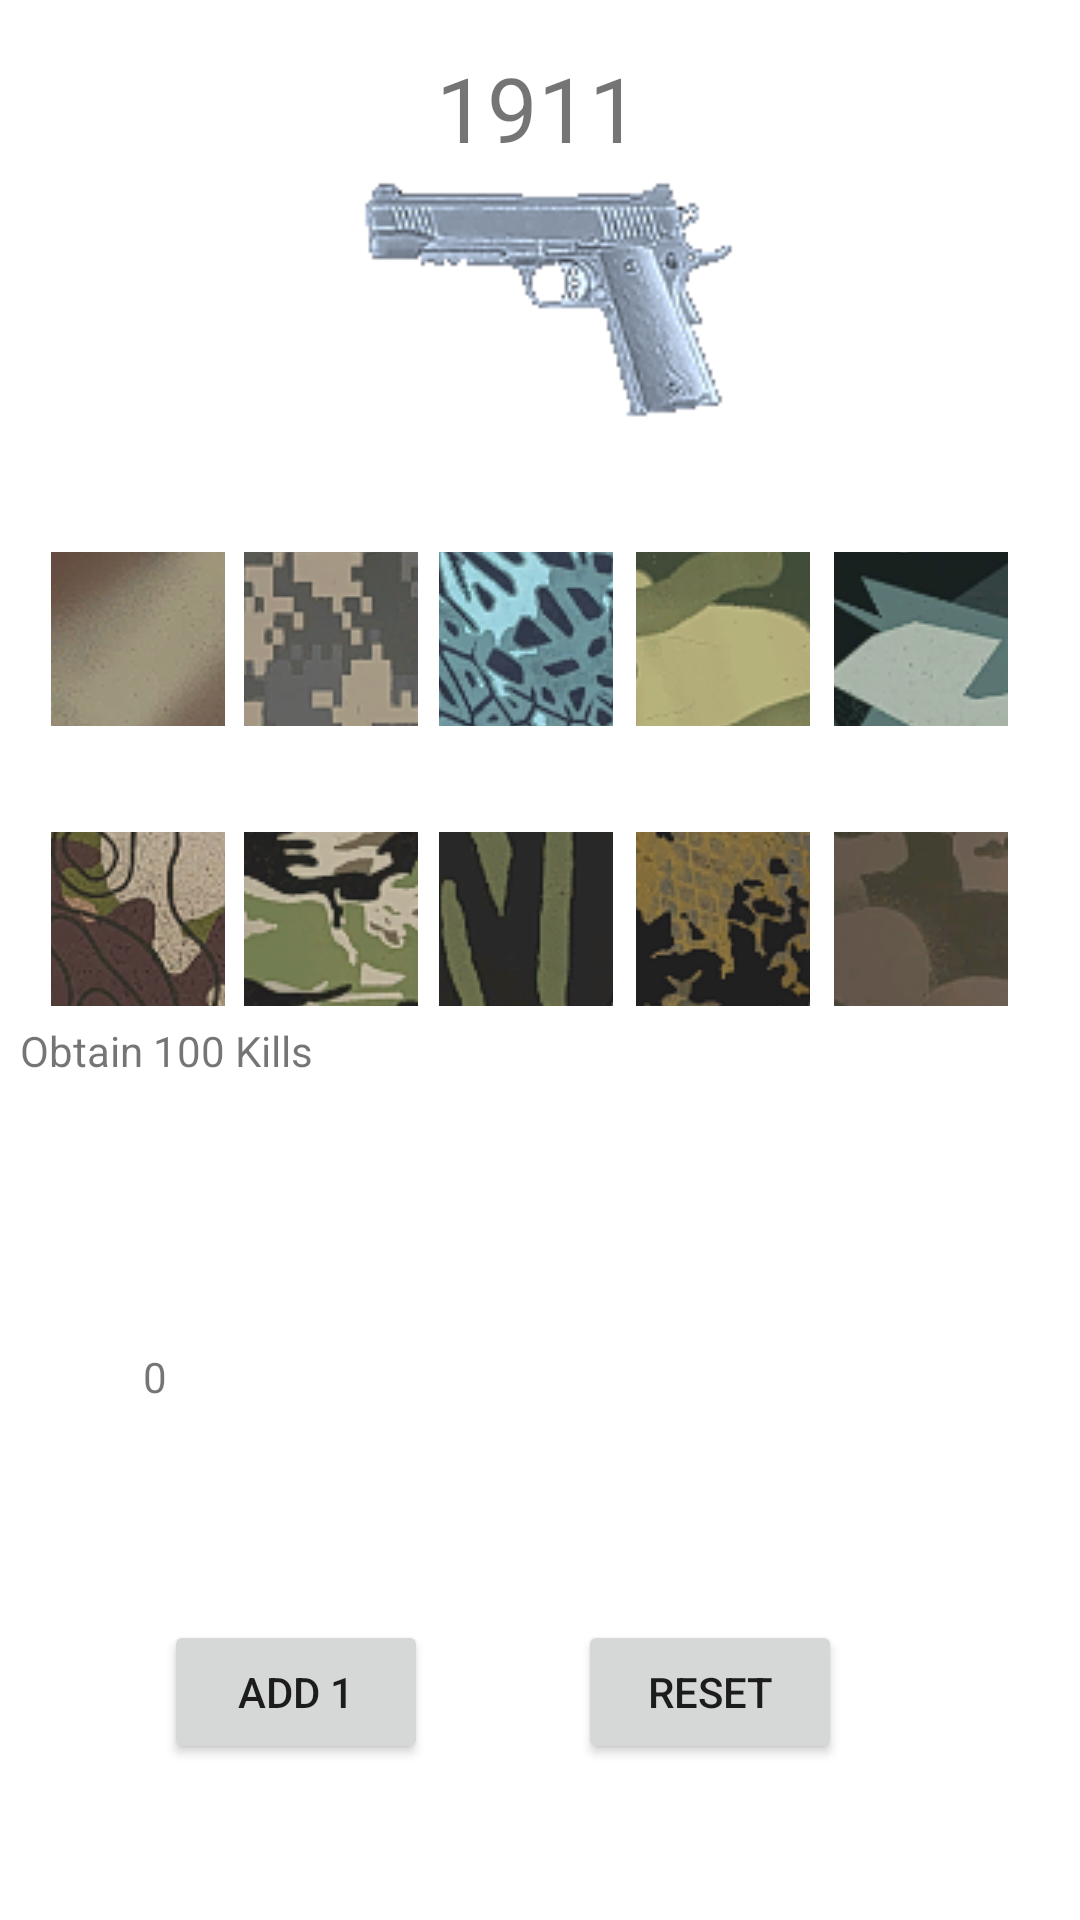

Named icons in this screenshot (1080 x 1920) and their centers, point (x, y):
camo digital: point (331, 639)
camo splinter: point (921, 639)
camo spray: point (138, 639)
camo stripes: point (526, 919)
camo tiger: point (331, 919)
camo topo: point (138, 919)
camo wood: point (723, 639)
